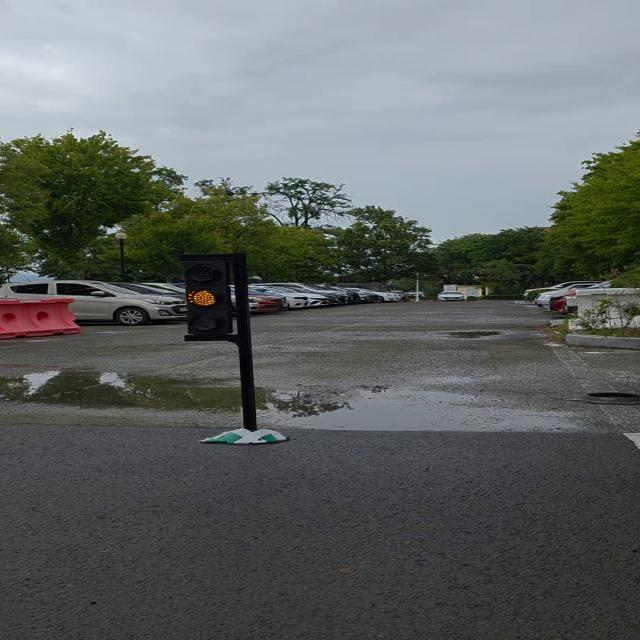yellow: (178, 248, 244, 345)
